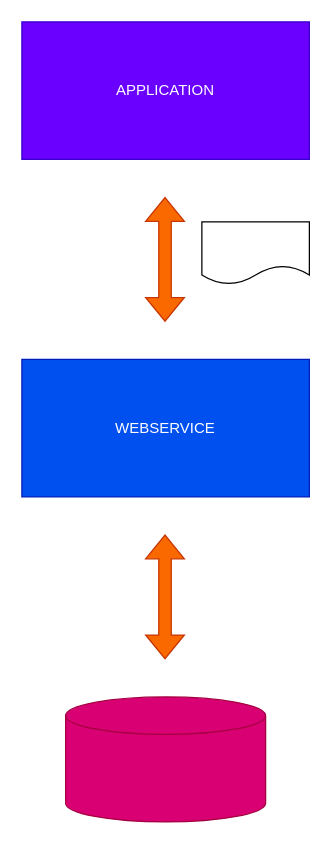
The diagram is 331 pixels wide and 844 high, and some of its shapes have lost their labels. The box of each missing label's shape, as (x1, y1, x2, y2) in pixels:
DATABASE: (64, 696, 266, 822)
XML: (201, 221, 309, 284)
